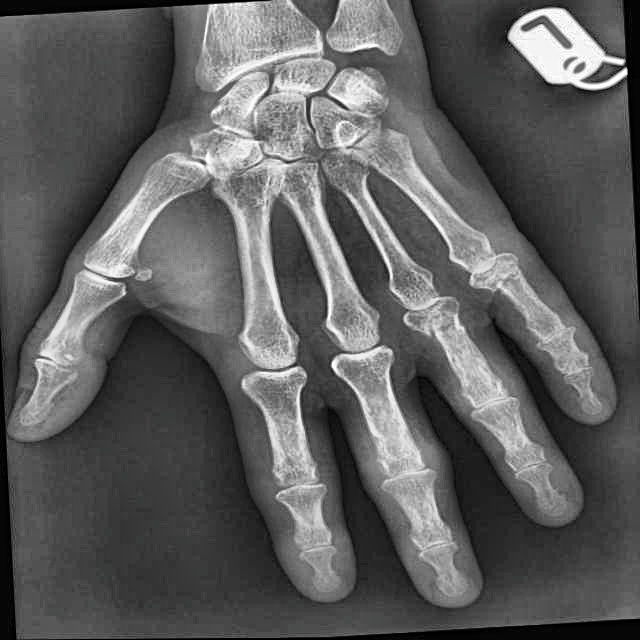Healthy: (18, 40, 582, 614)
